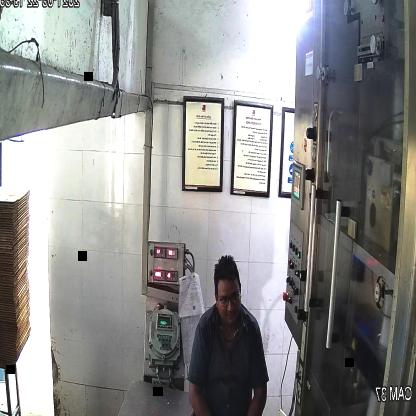goggles: (214, 284, 242, 312)
